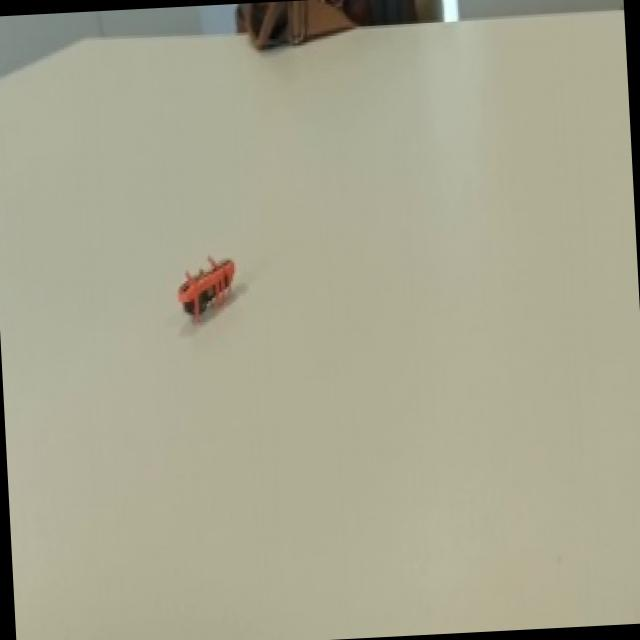7_NanoBug_Naranja: (170, 246, 263, 328)
